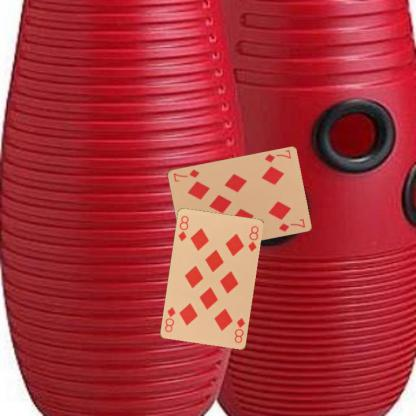7d: (262, 147, 292, 164)
8d: (176, 213, 190, 243), (232, 315, 246, 344)
